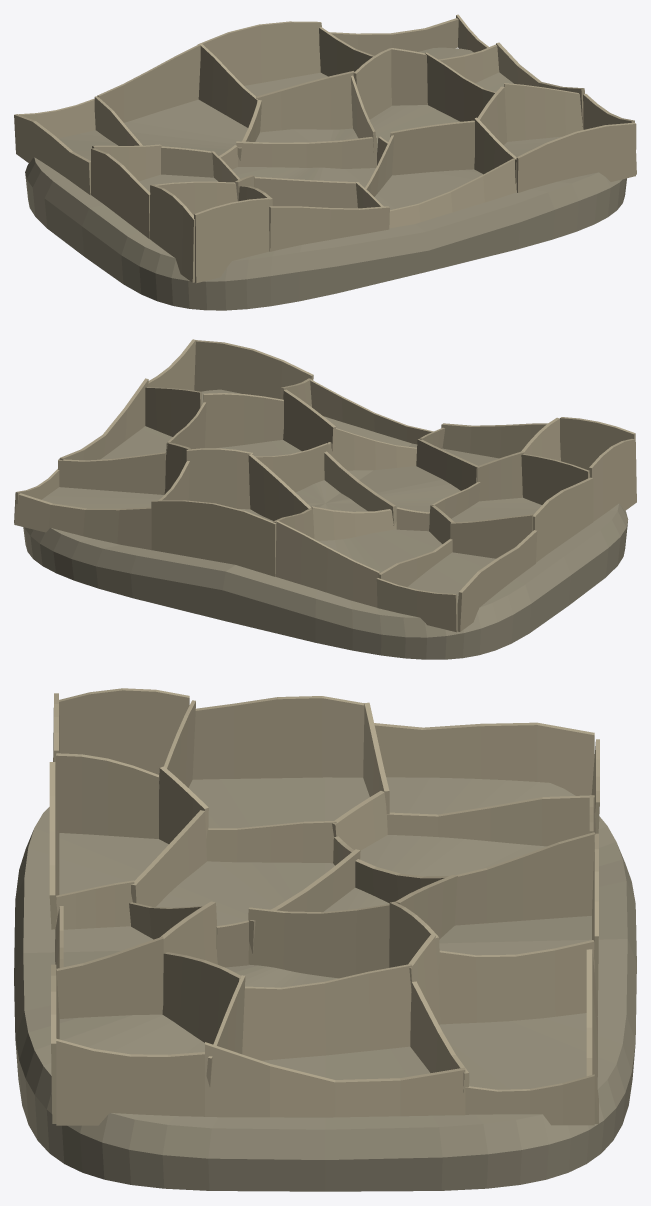
Rendered from cave-boxwork.glb.
3 renders of one model, top to bottom at view 1: azimuth 30°, elevation 25°; view 2: azimuth 150°, elevation 25°; view 3: azimuth 270°, elevation 25°, orthographic. The views are drawn at different scales.
Parts seen in each view (by area): view 1: thin-intersecting-residual-mineral-fins-irregular-planar-cel, finite-attached-eroded-cave-rock-display-face; view 2: thin-intersecting-residual-mineral-fins-irregular-planar-cel, finite-attached-eroded-cave-rock-display-face; view 3: thin-intersecting-residual-mineral-fins-irregular-planar-cel, finite-attached-eroded-cave-rock-display-face.
Part boxes in pixels (bbox=[...]): thin-intersecting-residual-mineral-fins-irregular-planar-cel: bbox=[14, 14, 636, 283]; finite-attached-eroded-cave-rock-display-face: bbox=[25, 47, 626, 310]; thin-intersecting-residual-mineral-fins-irregular-planar-cel: bbox=[14, 339, 636, 632]; finite-attached-eroded-cave-rock-display-face: bbox=[23, 389, 628, 659]; thin-intersecting-residual-mineral-fins-irregular-planar-cel: bbox=[49, 688, 599, 1125]; finite-attached-eroded-cave-rock-display-face: bbox=[14, 777, 636, 1191].
Bounding box in the file's own units: 0.65 × 0.1322 × 0.47.
